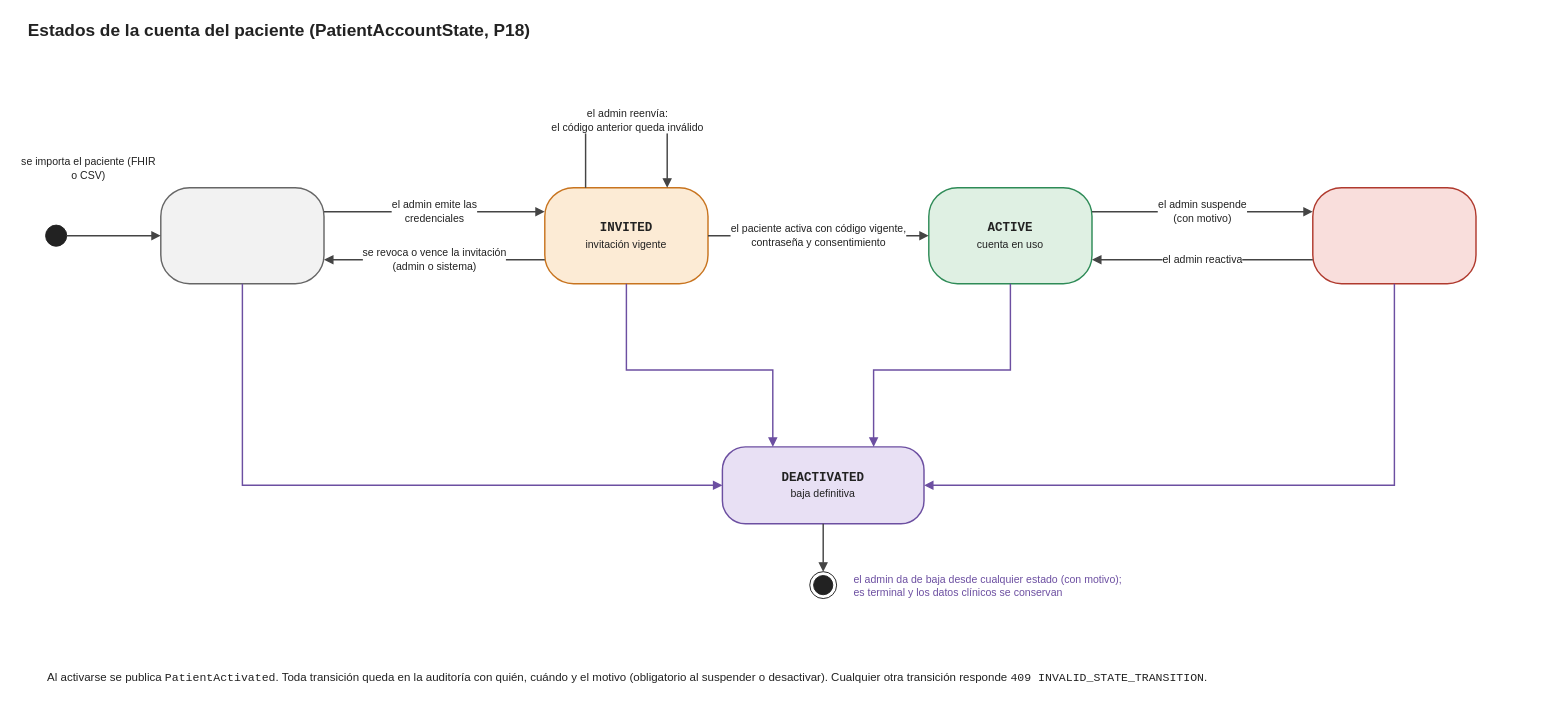
Some shapes in this 1559 by 722 pixel diagram are drawn without their labels. Here are the shapes that lost their labels. From the top down, the centre of each, then its label:
At point (242, 235): "IMPORTED sin credenciales".
At point (1394, 235): "SUSPENDED bloqueo temporal".
